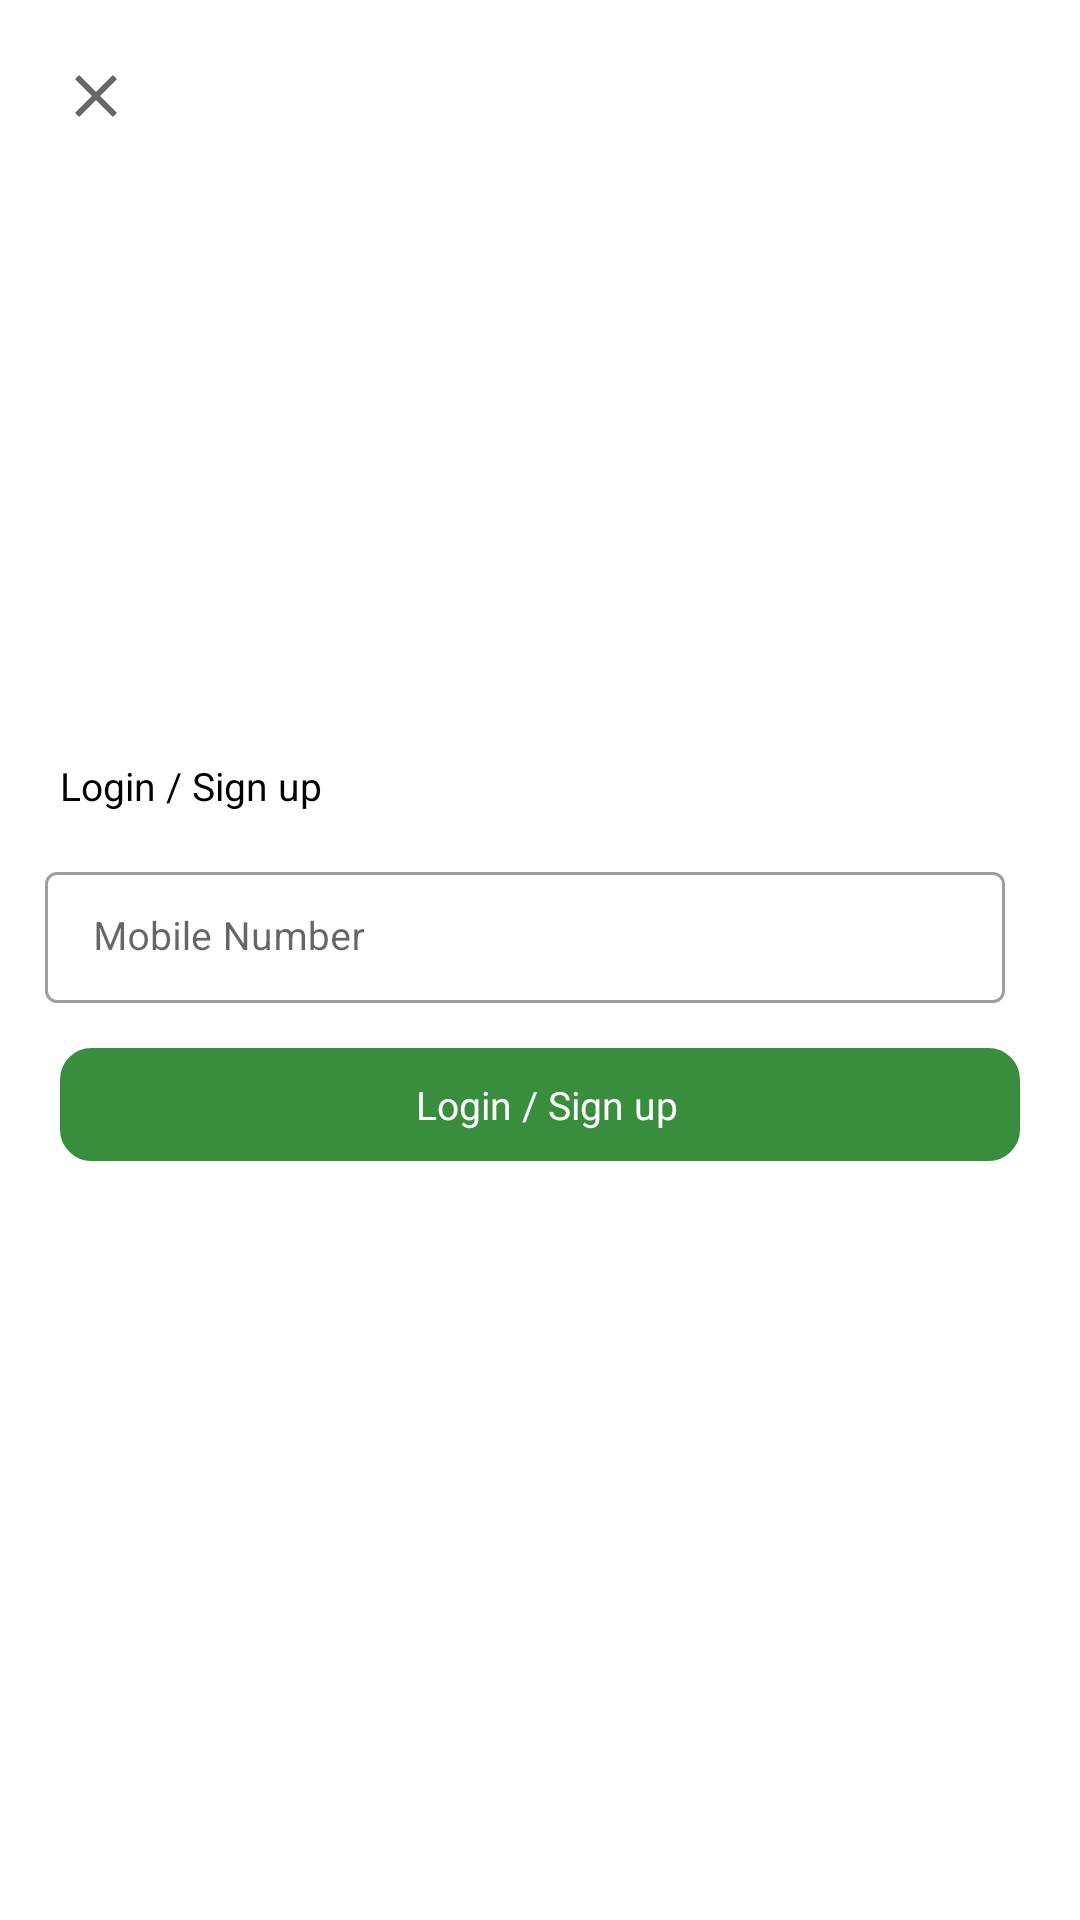

Icons on this 1080px×1920px Android screen, each with its box as bbox(x1, y1, x2, y2):
close: bbox(75, 75, 117, 117)
